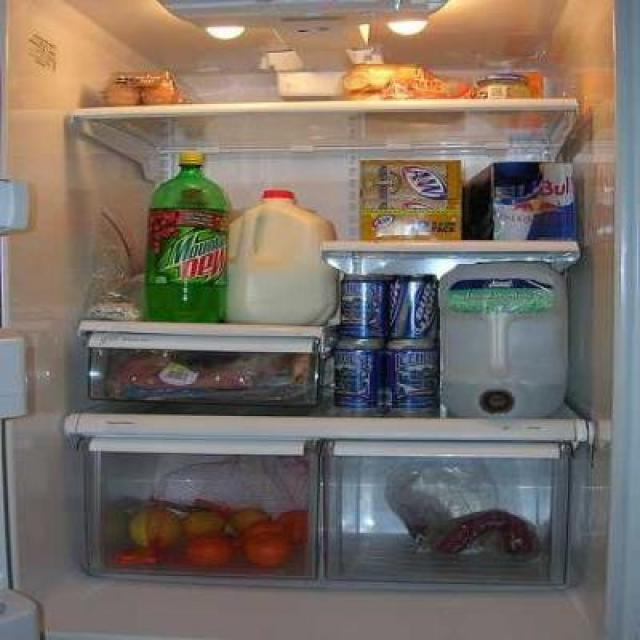refrigerator: (9, 0, 609, 638)
